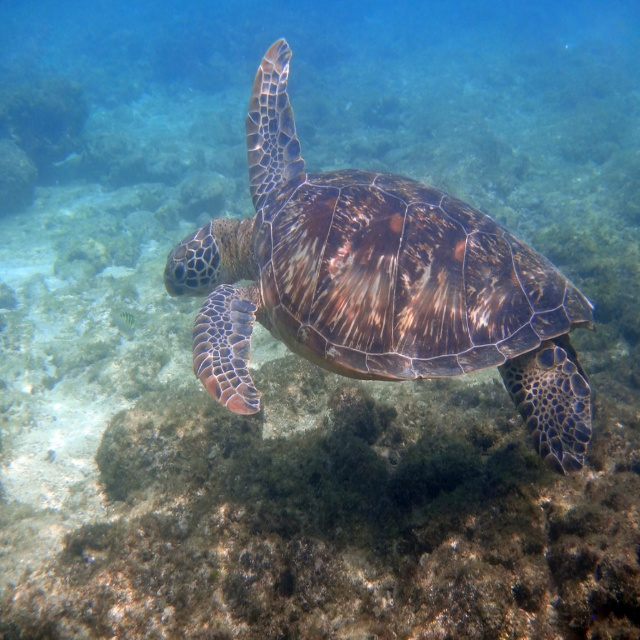Sea turtle: (163, 38, 597, 478)
